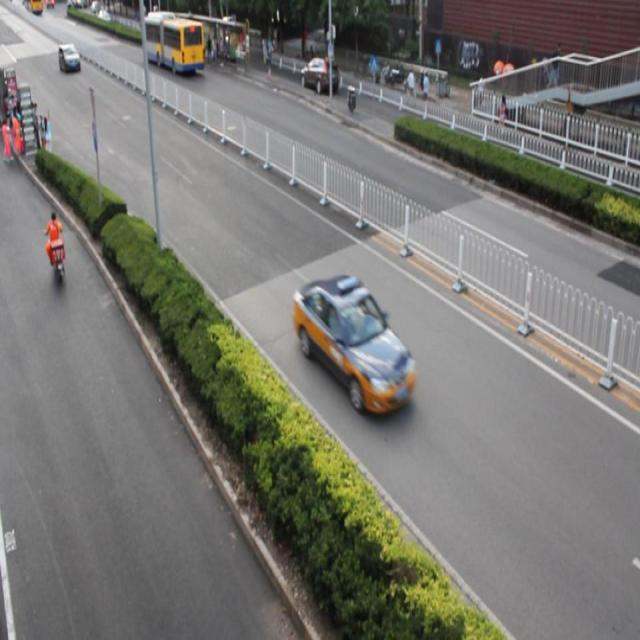car: (293, 275, 416, 412), (172, 9, 212, 50), (300, 58, 339, 94)
van: (143, 12, 203, 73)
